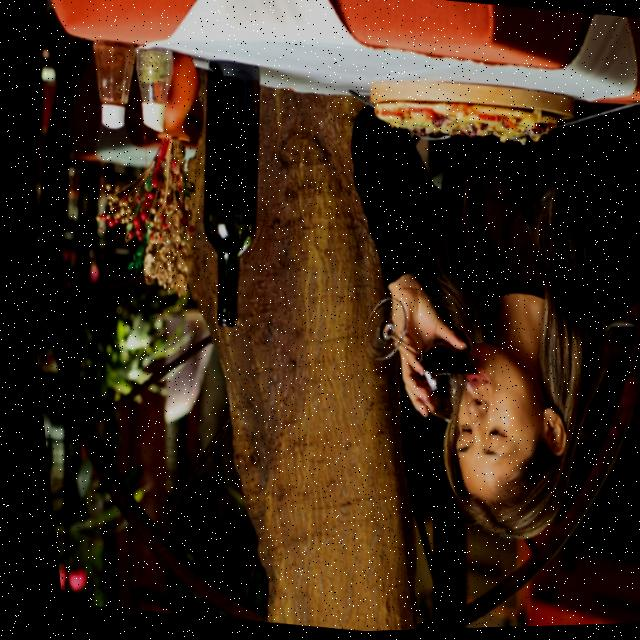eating-person: (279, 59, 640, 573)
